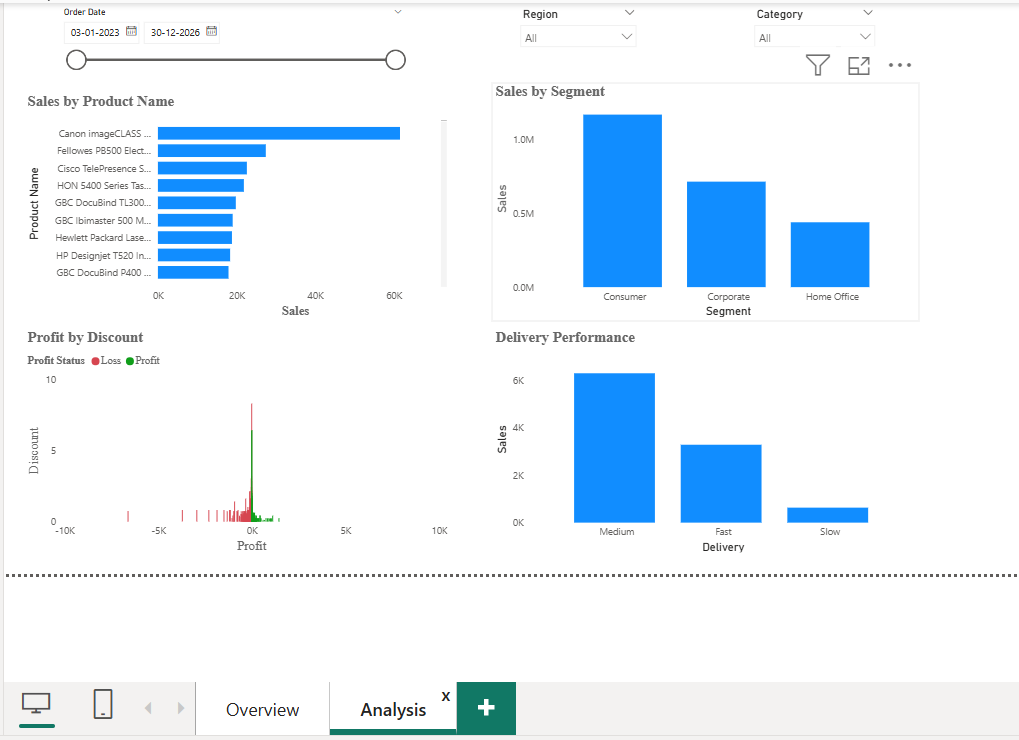

What the dashboard file says about the page in this screenshot:
{"tool":"powerbi","page":{"name":"Analysis","canvas":[1280,720],"ordinal":1},"visuals":[{"type":"slicer","fields":{"Values":["sales_data.Order Date"]},"box":[62.4,0,451.7,100.2],"z":0},{"type":"slicer","fields":{"Values":["sales_data.Region"]},"box":[640.6,0,166.3,100.2],"z":1000},{"type":"slicer","fields":{"Values":["sales_data.Category"]},"box":[935.4,0,172,100.2],"z":2000},{"type":"barChart","title":"Sales by Product Name","fields":{"Category":["sales_data.Product Name"],"Y":["Sum(sales_data.Sales)"]},"box":[24.6,113.4,538.6,287.2],"z":3000},{"type":"columnChart","title":"Sales by Segment","fields":{"Category":["sales_data.Segment"],"Y":["Sum(sales_data.Sales)"]},"box":[614.2,100.2,538.6,300.5],"z":4000},{"type":"columnChart","title":"Profit by Discount","fields":{"Category":["sales_data.Profit"],"Series":["sales_data.Profit Status"],"Y":["Sum(sales_data.Discount)"]},"box":[25,410,539,287],"z":5000},{"type":"columnChart","title":"Delivery Performance","fields":{"Category":["sales_data.Delivery Status "],"Y":["CountNonNull(sales_data.Order ID)"]},"box":[614.2,410.1,538.6,287.2],"z":6000}]}

Visuals, with their boxes on the page's 1280x720 design canvas (x1, y1, x2, y2). These are canvas units, not pixel positions in the 1019x740 screenshot, which may show the page scaled, cropped or inside an application window:
slicer - sales_data.Order Date: <region>62, 0, 514, 100</region>
slicer - sales_data.Region: <region>641, 0, 807, 100</region>
slicer - sales_data.Category: <region>935, 0, 1107, 100</region>
"Sales by Product Name" barChart: <region>25, 113, 563, 401</region>
"Sales by Segment" columnChart: <region>614, 100, 1153, 401</region>
"Profit by Discount" columnChart: <region>25, 410, 564, 697</region>
"Delivery Performance" columnChart: <region>614, 410, 1153, 697</region>
